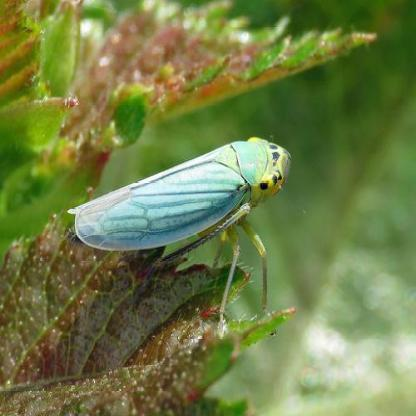Green-Leafhopper: (61, 129, 295, 330)
